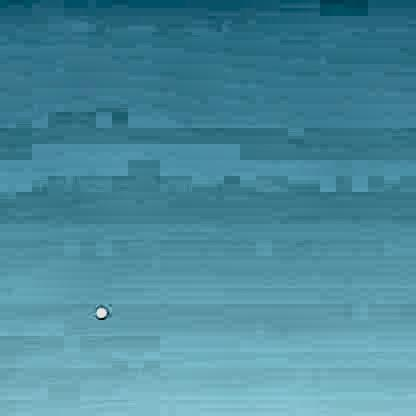golfball: (91, 301, 106, 316)
